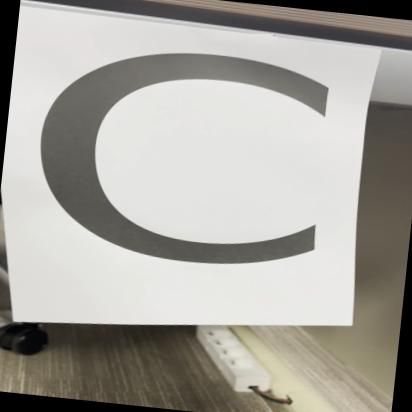seat: (0, 0, 385, 356)
